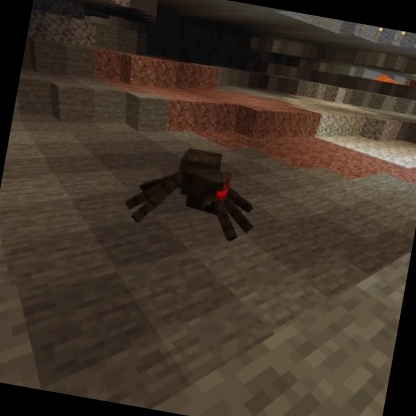spider: (117, 135, 268, 246)
